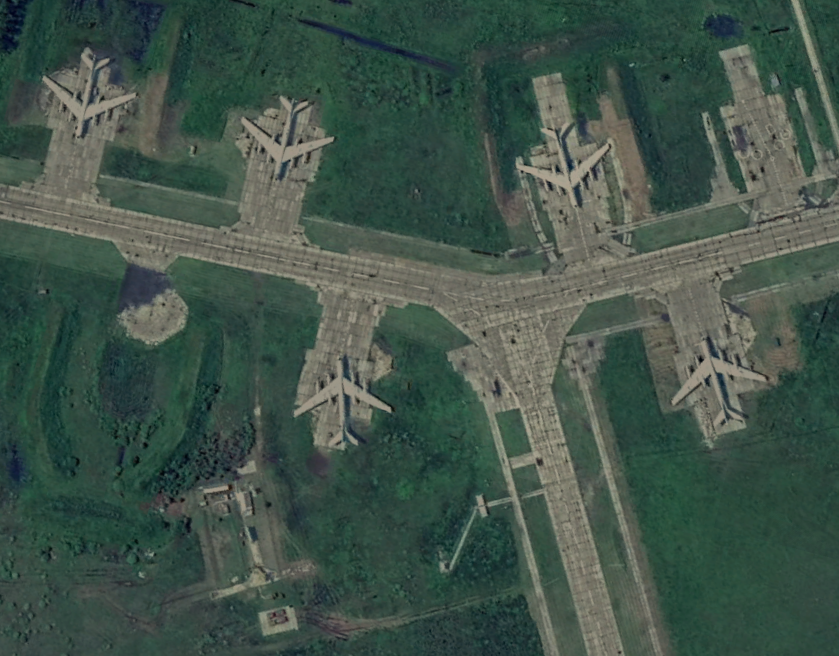A17: (665, 326, 778, 435), (509, 114, 622, 223), (289, 346, 399, 450), (35, 42, 144, 145), (234, 89, 340, 189)
